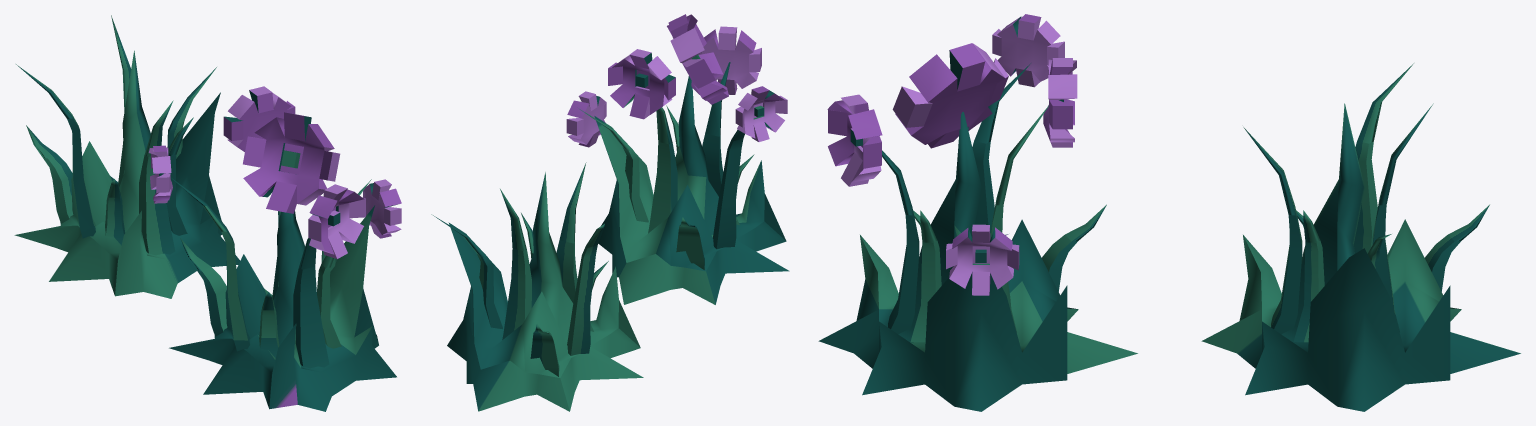
File: piantine.fbx
The picture shows the model from 3 angles, left to right: view 1: azimuth 30°, elevation 25°; view 2: azimuth 150°, elevation 25°; view 3: azimuth 270°, elevation 25°; orthographic projection. The views are drawn at different scales.
Parts seen in each view (by area): view 1: Tall_Grass1, Tall_Grass2; view 2: Tall_Grass1, Tall_Grass2; view 3: Tall_Grass1, Tall_Grass2.
Part boxes in pixels (box(x1,y1,x2,y2)): Tall_Grass1: box(148, 86, 401, 411); Tall_Grass2: box(14, 15, 239, 298); Tall_Grass1: box(566, 14, 789, 304); Tall_Grass2: box(431, 162, 643, 411); Tall_Grass1: box(818, 14, 1137, 411); Tall_Grass2: box(1201, 63, 1520, 411).
Size of the model in its own units: 1.72 by 1.81 by 3.7.
